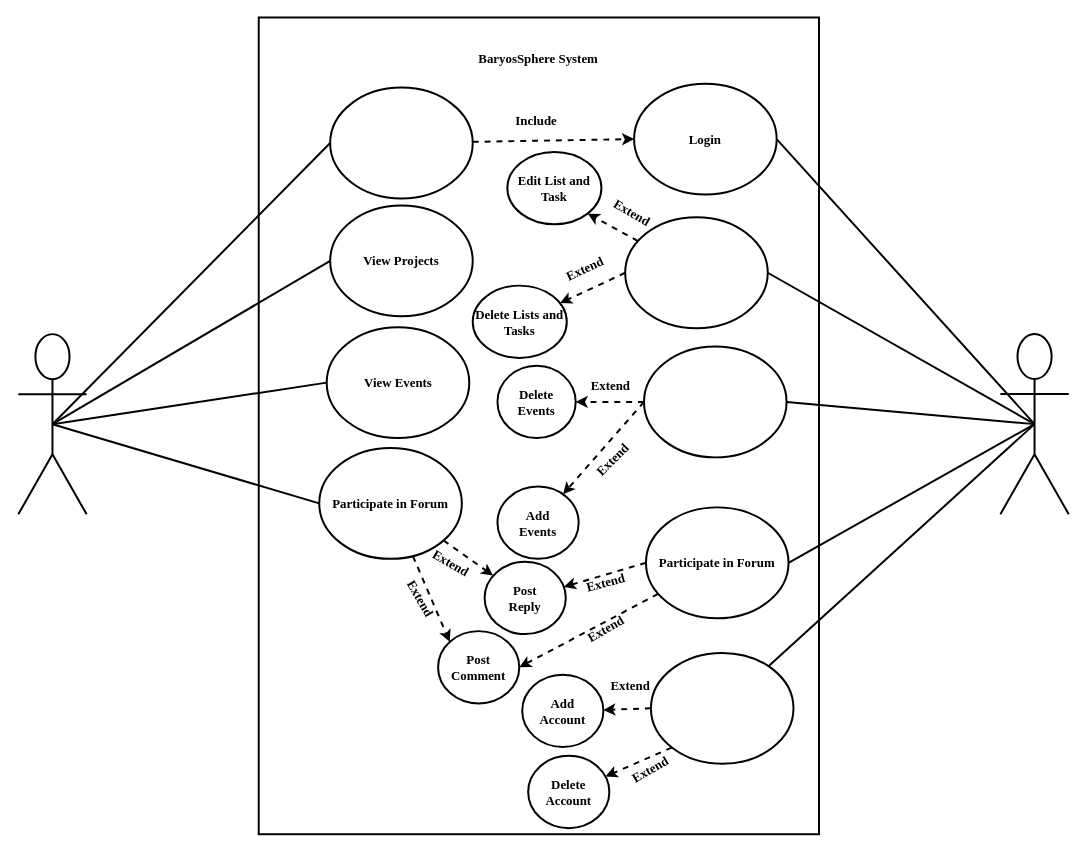
The diagram is 1086 pixels wide and 852 high, and some of its shapes have lost their labels. The box of each missing label's shape, as (x1, y1, x2, y2) in pixels:
Admin: (999, 333, 1069, 515)
Manage Account: (649, 651, 794, 764)
Manage Events: (643, 345, 787, 458)
Manage Projects: (624, 216, 768, 329)
Register Account: (329, 86, 473, 199)
User: (17, 333, 87, 515)
